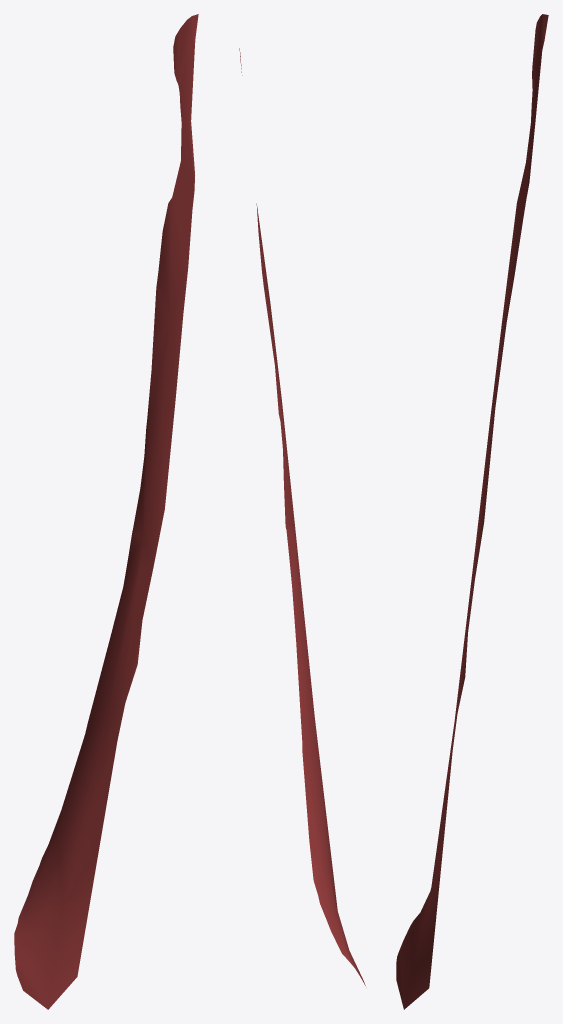
File: vastus-medialis-muscle-ol.glb
The picture shows the model from 3 angles, left to right: view 1: azimuth 30°, elevation 25°; view 2: azimuth 150°, elevation 25°; view 3: azimuth 330°, elevation 25°; orthographic projection. The views are drawn at different scales.
Visible parts, largest first — view 1: Vastus medialis muscle.ol; view 2: Vastus medialis muscle.ol; view 3: Vastus medialis muscle.ol.
Part boxes in pixels (x1=…): Vastus medialis muscle.ol: x1=14, y1=14, x2=198, y2=1009; Vastus medialis muscle.ol: x1=239, y1=48, x2=365, y2=985; Vastus medialis muscle.ol: x1=396, y1=14, x2=548, y2=1009.
Size of the model in its own units: 0.0578 by 0.3296 by 0.0287.
